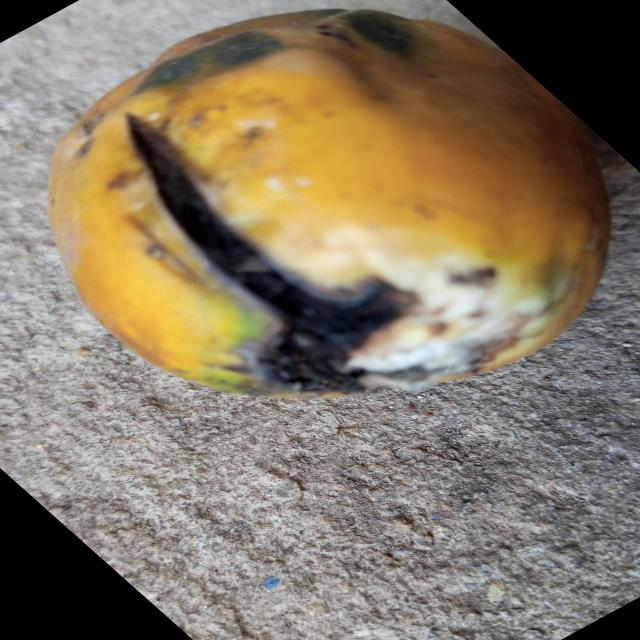damaged: (49, 10, 610, 398)
